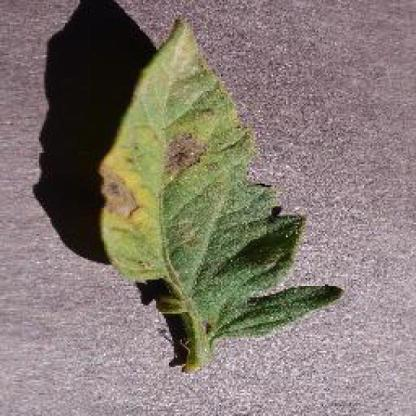Tomato_Blight: (101, 22, 342, 356)
